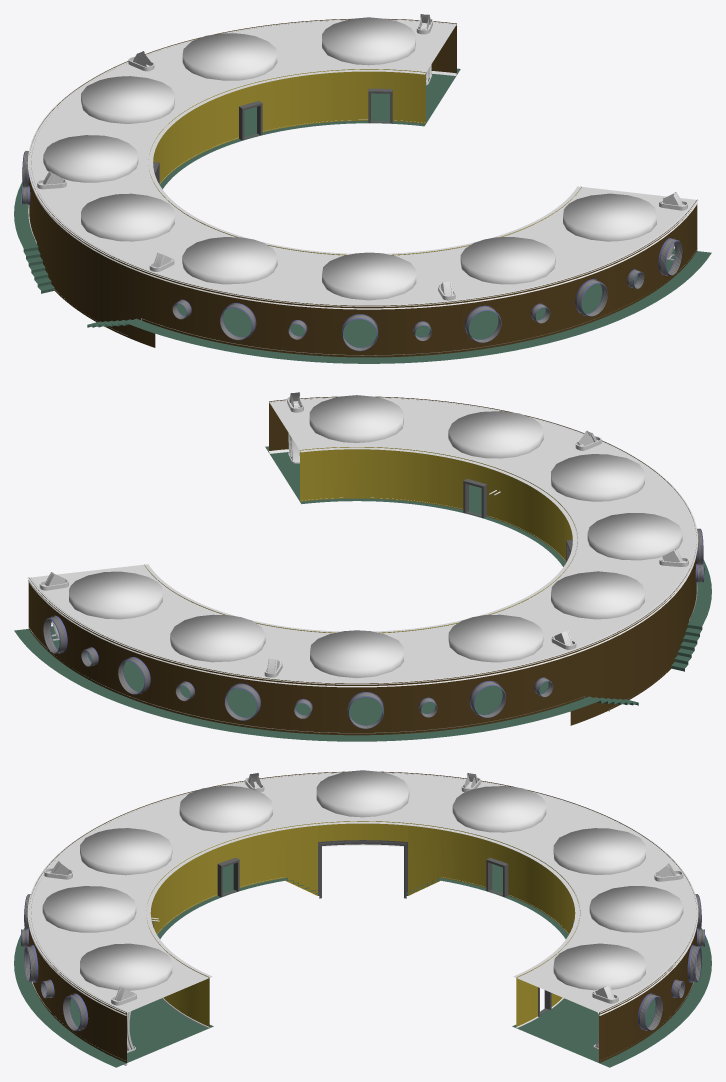
Rendered from 1stFloorTunnel.fbx.
3 renders of one model, top to bottom at view 1: azimuth 30°, elevation 25°; view 2: azimuth 150°, elevation 25°; view 3: azimuth 270°, elevation 25°, orthographic.
Visible parts, largest first — view 1: WallCorridorEnd (×2), 1stCoridorCelling015, 1stCoridorCelling012, 1stCoridorCelling017, 1stCoridorCelling013, 1stCoridorCelling019, 1stCoridorCelling018, 1stCoridorCelling014, 1stCoridorCelling023, 1stCoridorCelling016, WallCorridor004, WallCorridor003 (+25 smaller); view 2: WallCorridorEnd (×2), 1stCoridorCelling015, 1stCoridorCelling017, 1stCoridorCelling013, 1stCoridorCelling018, 1stCoridorCelling012, 1stCoridorCelling023, 1stCoridorCelling016, 1stCoridorCelling019, 1stCoridorCelling014, WallCorridor008, WallCorridor007 (+25 smaller); view 3: 1stCoridorCelling012, 1stCoridorCelling015, 1stCoridorCelling018, 1stCoridorCelling016, 1stCoridorCelling014, 1stCoridorCelling017, 1stCoridorCelling019, 1stCoridorCelling023, 1stCoridorCelling013, WallPart_07 (×2), WallPart_05 (×2), FloorPart_02 (×2) (+19 smaller).
Part boxes in pixels (x1,y1,x2,y2): WallCorridorEnd (×2): (33,185,155,347); 1stCoridorCelling015: (39,186,215,264); 1stCoridorCelling012: (425,227,609,301); 1stCoridorCelling017: (40,61,215,138); 1stCoridorCelling013: (281,251,456,306); 1stCoridorCelling019: (281,17,456,74); 1stCoridorCelling018: (145,23,312,97); 1stCoridorCelling014: (128,227,312,301); 1stCoridorCelling023: (522,186,698,264); 1stCoridorCelling016: (27,125,160,199); WallCorridor004: (264,299,386,357); WallCorridor003: (386,293,507,357); WallCorridorEnd (×2): (570,563,692,725); 1stCoridorCelling015: (510,564,686,642); 1stCoridorCelling017: (269,628,444,684); 1stCoridorCelling013: (510,440,686,516); 1stCoridorCelling018: (116,605,300,679); 1stCoridorCelling012: (413,401,584,475); 1stCoridorCelling023: (269,395,444,452); 1stCoridorCelling016: (413,605,597,679); 1stCoridorCelling019: (27,564,203,642); 1stCoridorCelling014: (565,503,698,577); WallCorridor008: (339,676,461,735); WallCorridor007: (218,671,339,734); 1stCoridorCelling012: (27,876,157,949); 1stCoridorCelling015: (277,770,448,826); 1stCoridorCelling018: (568,876,698,949); 1stCoridorCelling016: (418,776,599,849); 1stCoridorCelling014: (126,776,307,849); 1stCoridorCelling017: (513,813,686,889); 1stCoridorCelling019: (513,936,686,1013); 1stCoridorCelling023: (39,936,212,1013); 1stCoridorCelling013: (39,813,212,889); WallPart_07 (×2): (218,827,507,887); WallPart_05 (×2): (170,845,555,921); FloorPart_02 (×2): (26,998,699,1049).
Bounding box in the file's own units: 4161 × 675 × 4900.
